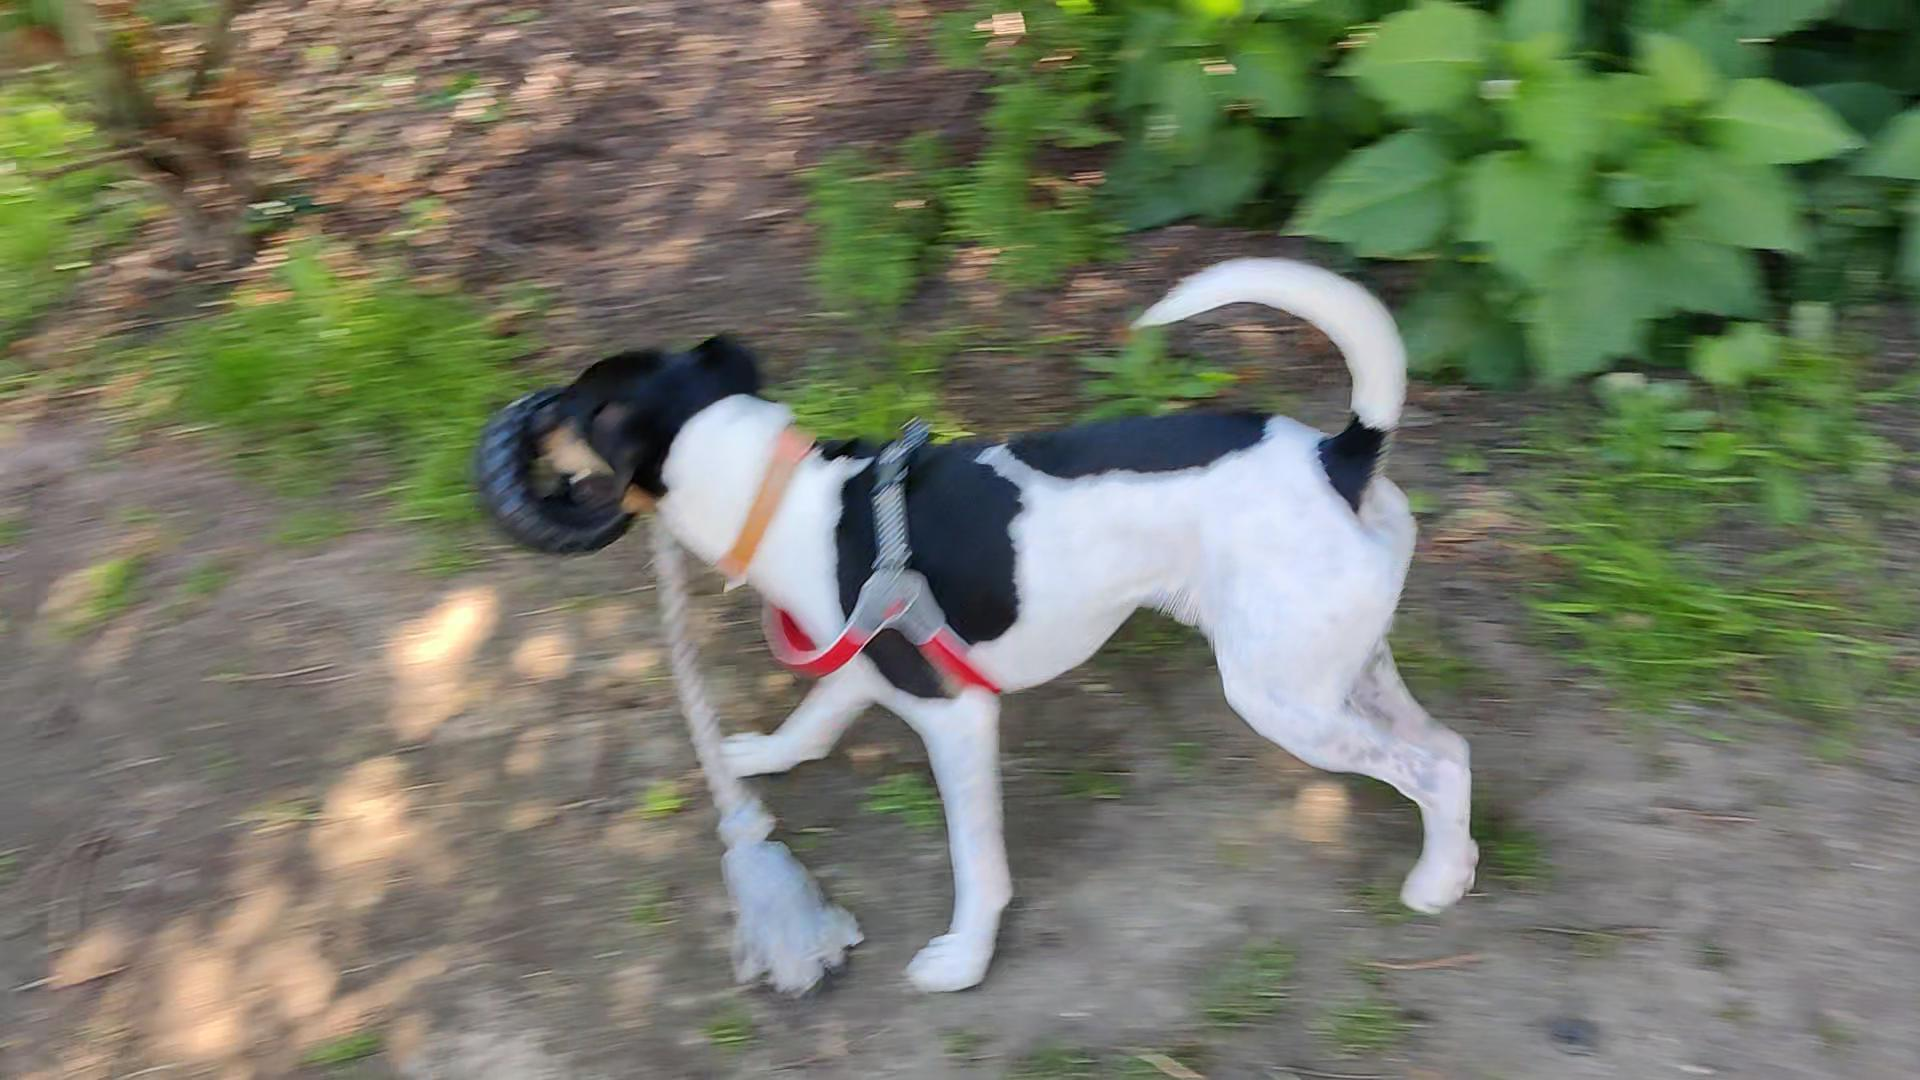Dog: (504, 244, 1494, 1000)
